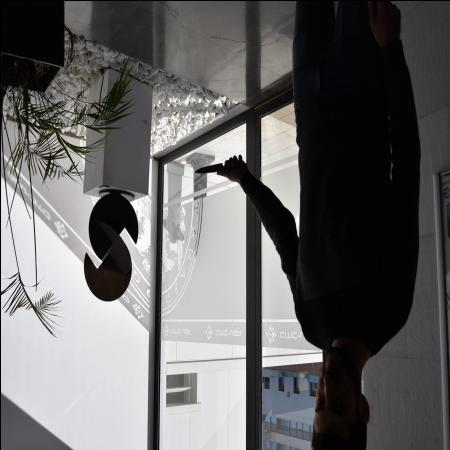long weapon: (192, 156, 232, 178)
